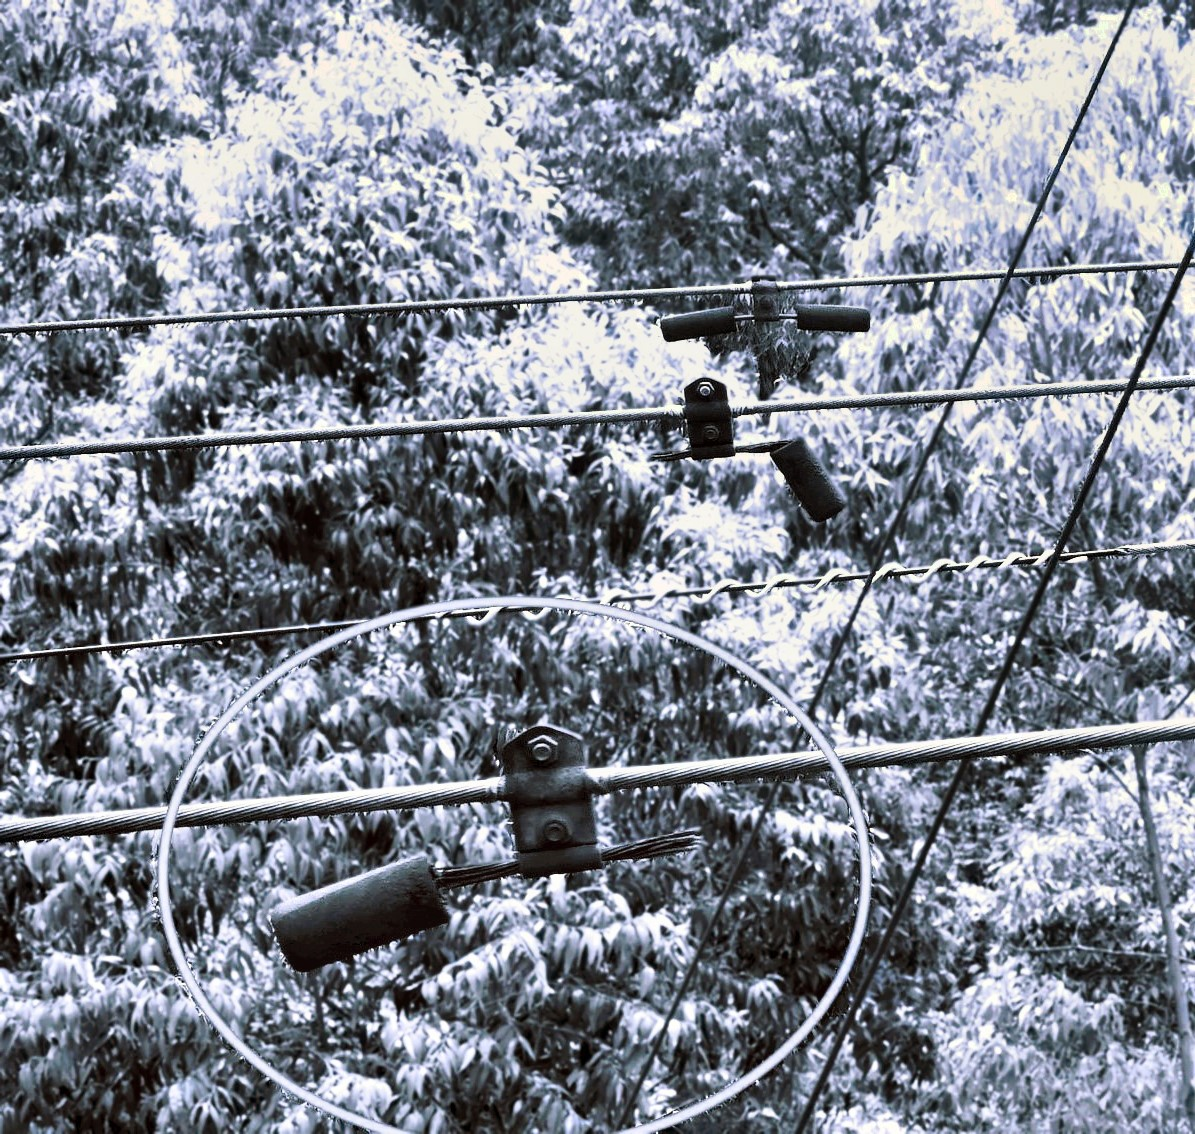Damage of shockproof hammer: (242, 701, 718, 975), (626, 369, 862, 535)
